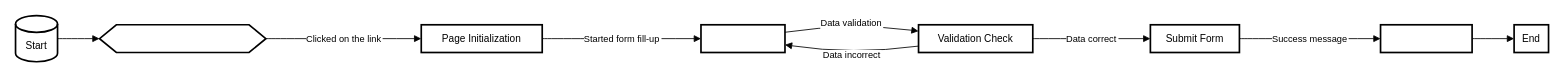
Image size: 1563x76. Some labels were removed from this diagram. The shapes that lost their labels are listed below. From the top down, each one's centre as x and y in pixels, then its label:
At (182,38): "User starts the journey".
At (742,38): "Form Filling".
At (1426,38): "Confirmation".
